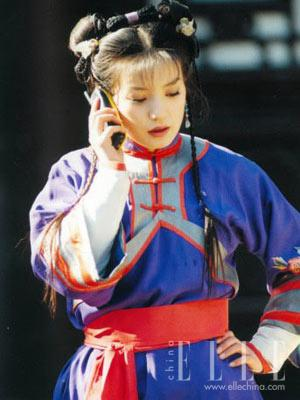person: (29, 3, 300, 400)
